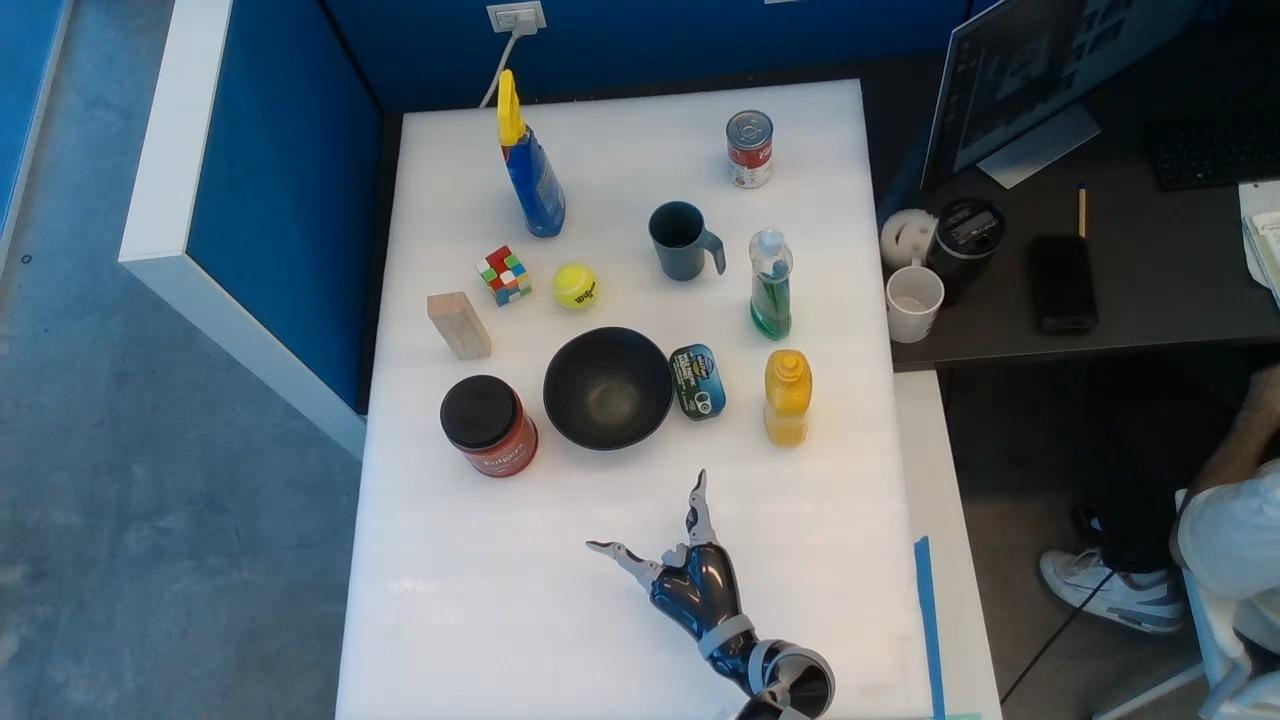bowl: (544, 327, 673, 449)
cleanser: (750, 227, 792, 339)
coffee_can: (440, 375, 537, 477)
jaco: (588, 470, 742, 641)
meat_can: (669, 344, 725, 420)
mug: (648, 201, 724, 280)
mustard_bottle: (764, 350, 812, 446)
rubik: (475, 245, 530, 305)
soup_can: (726, 110, 771, 188)
tennis_ball: (553, 264, 595, 308)
windex: (495, 69, 564, 236)
wooden_block: (427, 293, 490, 358)
workspace: (336, 81, 930, 717)
